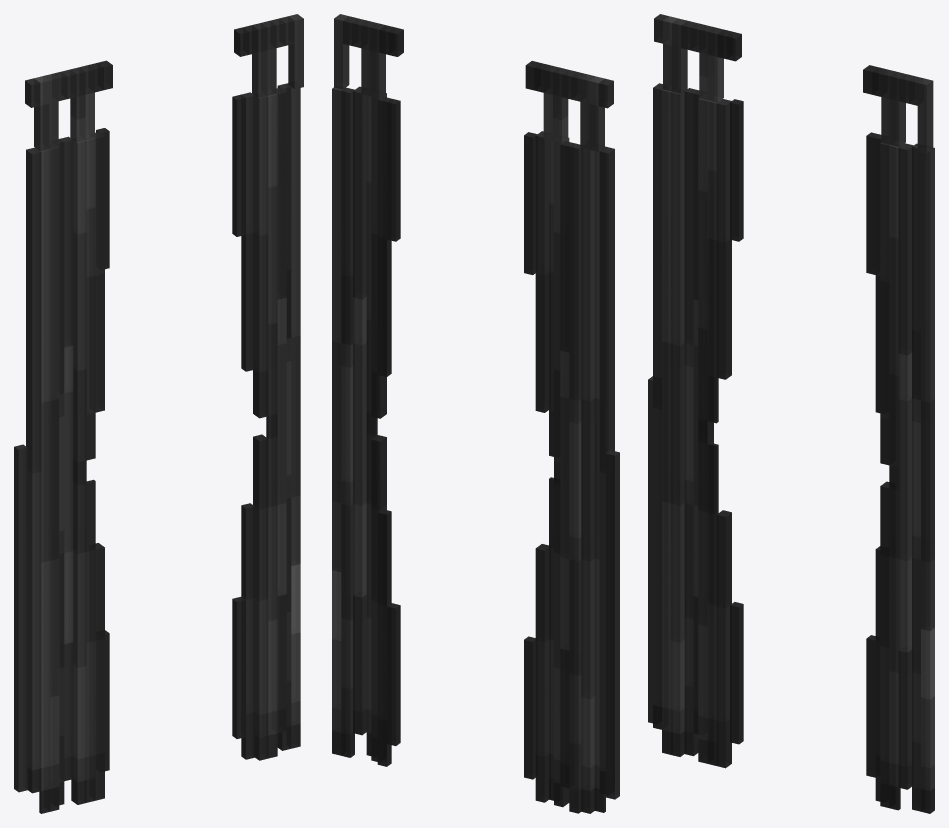
The model's file is CMU3DBlackBlindsOpen.glb.
The picture shows the model from 3 angles, left to right: view 1: azimuth 30°, elevation 25°; view 2: azimuth 150°, elevation 25°; view 3: azimuth 330°, elevation 25°; orthographic projection.
Parts seen in each view (by area): view 1: Folded fabric section 1:3-31, Folded fabric section 6:3-32, Folded fabric section 2:3-32, Folded fabric section 27:3-32, Folded fabric section 3:3-32, Folded fabric section 30:3-32, Folded fabric section 28:3-31, Folded fabric section 5:3-31, Folded fabric section 0:16-31, Folded fabric section 26:18-32, Folded fabric section 26:3-17, Folded fabric section 29:3-32 (+18 smaller); view 2: Folded fabric section 3:3-32, Folded fabric section 28:3-31, Folded fabric section 4:3-32, Folded fabric section 29:3-32, Folded fabric section 1:3-31, Folded fabric section 30:3-32, Folded fabric section 5:3-31, Folded fabric section 0:16-31, Folded fabric section 6:3-32, Folded fabric section 2:3-32, Folded fabric section 27:3-32, Folded fabric section 8:3-15 (+18 smaller); view 3: Folded fabric section 3:3-32, Folded fabric section 30:3-32, Folded fabric section 28:3-31, Folded fabric section 4:3-32, Folded fabric section 6:3-32, Folded fabric section 27:3-32, Folded fabric section 2:3-32, Folded fabric section 29:3-32, Folded fabric section 1:3-31, Folded fabric section 8:3-15, Folded fabric section 5:3-31, Folded fabric section 8:21-32 (+18 smaller).
Boxes of the visible parts, left/top/right/bottom form: Folded fabric section 1:3-31: left=26, top=147, right=41, bottom=793; Folded fabric section 6:3-32: left=71, top=140, right=86, bottom=804; Folded fabric section 2:3-32: left=39, top=149, right=50, bottom=813; Folded fabric section 27:3-32: left=266, top=94, right=277, bottom=758; Folded fabric section 3:3-32: left=49, top=147, right=59, bottom=811; Folded fabric section 30:3-32: left=287, top=83, right=300, bottom=748; Folded fabric section 28:3-31: left=276, top=87, right=286, bottom=733; Folded fabric section 5:3-31: left=60, top=136, right=73, bottom=781; Folded fabric section 0:16-31: left=14, top=444, right=27, bottom=792; Folded fabric section 26:18-32: left=253, top=434, right=268, bottom=760; Folded fabric section 26:3-17: left=253, top=95, right=268, bottom=418; Folded fabric section 29:3-32: left=277, top=83, right=291, bottom=750; Folded fabric section 3:3-32: left=581, top=148, right=594, bottom=813; Folded fabric section 28:3-31: left=353, top=86, right=366, bottom=735; Folded fabric section 4:3-32: left=569, top=143, right=581, bottom=813; Folded fabric section 29:3-32: left=341, top=87, right=354, bottom=757; Folded fabric section 1:3-31: left=599, top=146, right=614, bottom=794; Folded fabric section 30:3-32: left=332, top=87, right=342, bottom=755; Folded fabric section 5:3-31: left=560, top=141, right=573, bottom=788; Folded fabric section 0:16-31: left=606, top=450, right=619, bottom=799; Folded fabric section 6:3-32: left=554, top=137, right=569, bottom=807; Folded fabric section 2:3-32: left=594, top=146, right=605, bottom=812; Folded fabric section 27:3-32: left=366, top=95, right=377, bottom=755; Folded fabric section 8:3-15: left=535, top=131, right=548, bottom=412; Folded fabric section 3:3-32: left=671, top=91, right=684, bottom=756; Folded fabric section 30:3-32: left=921, top=147, right=934, bottom=813; Folded fabric section 28:3-31: left=898, top=143, right=913, bottom=789; Folded fabric section 4:3-32: left=684, top=88, right=698, bottom=756; Folded fabric section 6:3-32: left=698, top=98, right=713, bottom=763; Folded fabric section 27:3-32: left=889, top=145, right=900, bottom=810; Folded fabric section 2:3-32: left=662, top=89, right=671, bottom=754; Folded fabric section 29:3-32: left=912, top=143, right=920, bottom=811; Folded fabric section 1:3-31: left=653, top=83, right=662, bottom=729; Folded fabric section 8:3-15: left=716, top=99, right=731, bottom=379; Folded fabric section 5:3-31: left=693, top=90, right=699, bottom=734; Folded fabric section 8:21-32: left=716, top=510, right=731, bottom=768.
Bounding box in the file's own units: 0.9688 × 2.4 × 0.0536.
22 materials, 22 textured.
